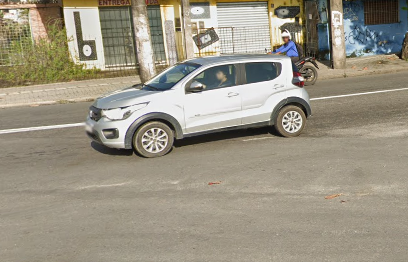car: (82, 46, 313, 153)
